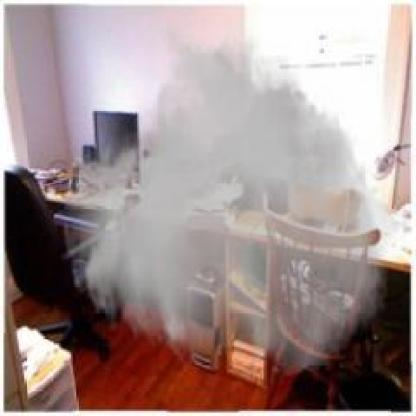Smoke: (59, 22, 409, 378)
